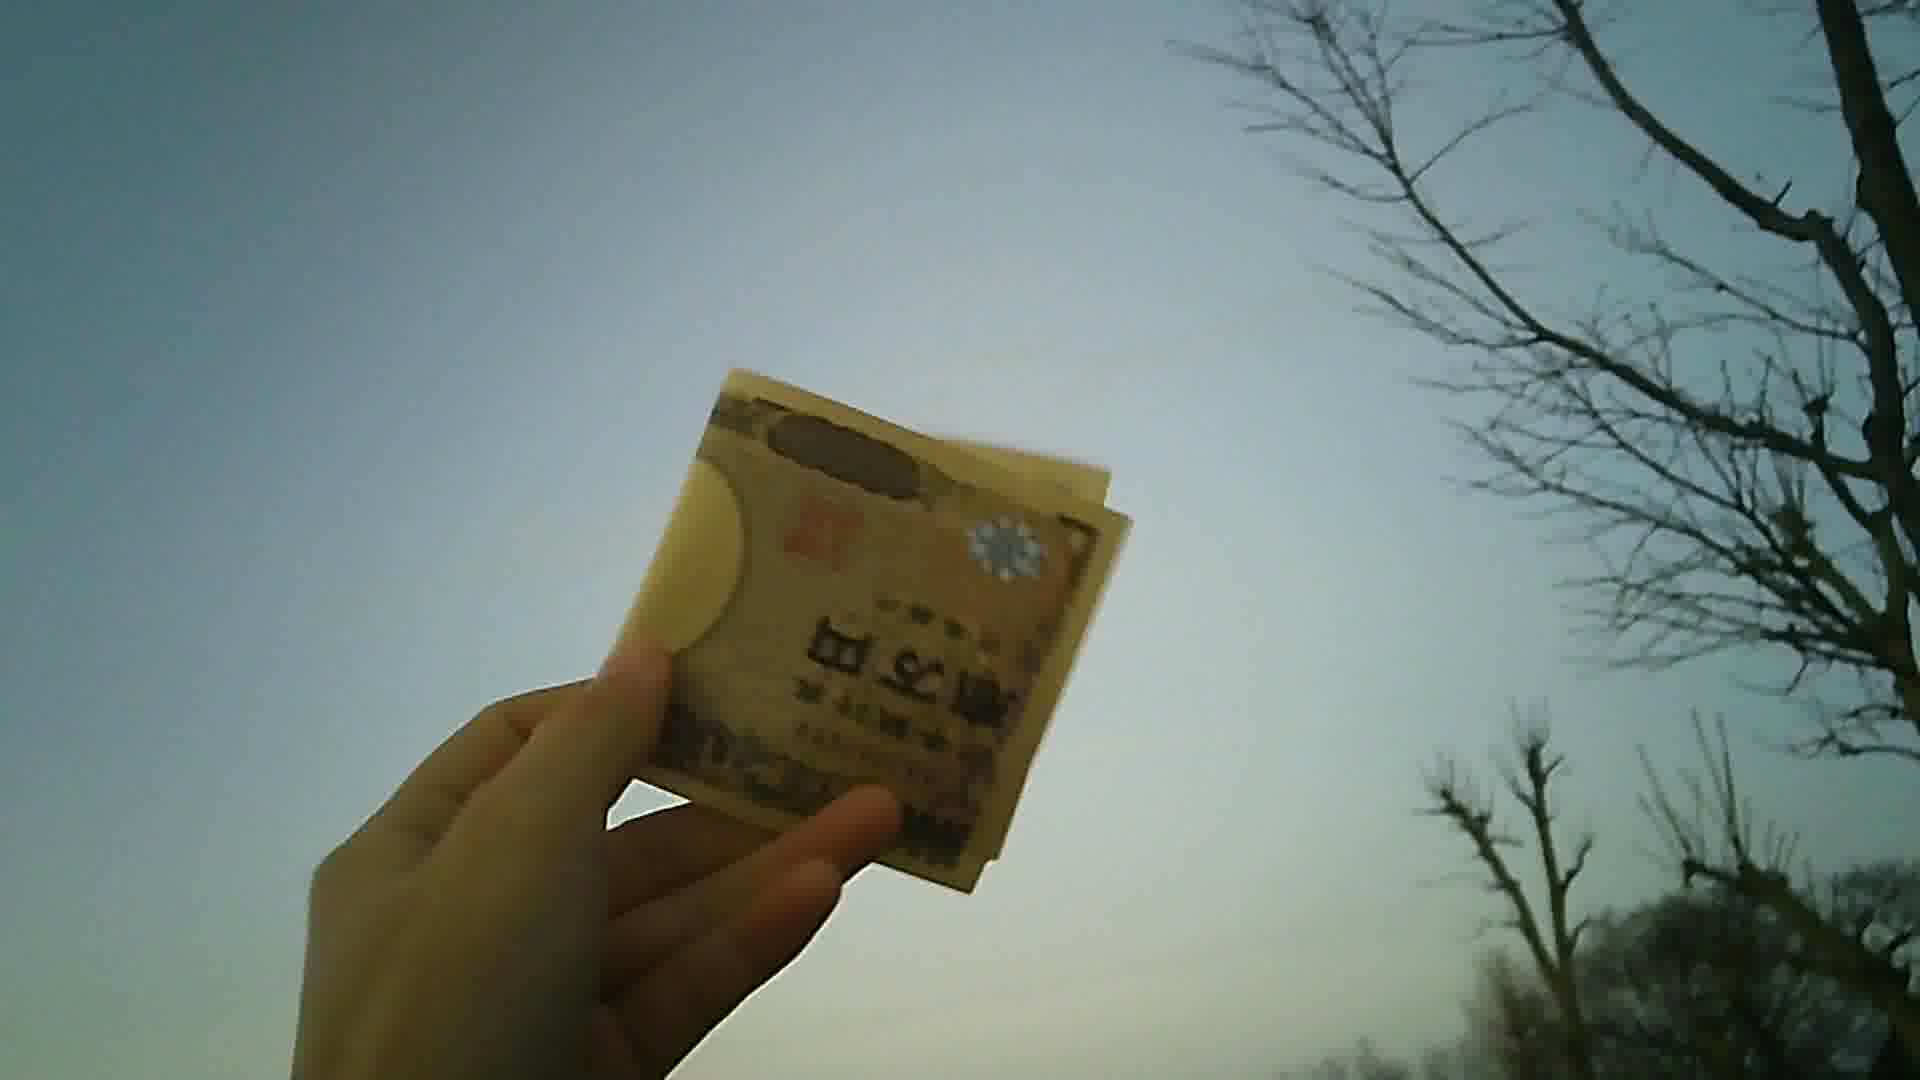10,000 Yen: (597, 356, 1102, 895)
